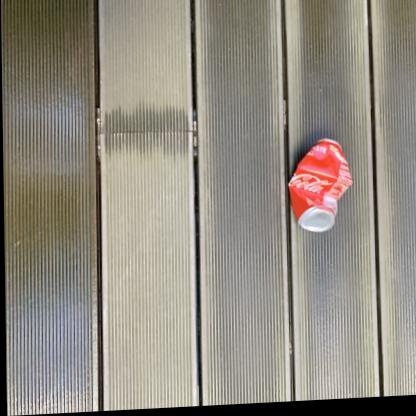trash: (289, 139, 351, 231)
